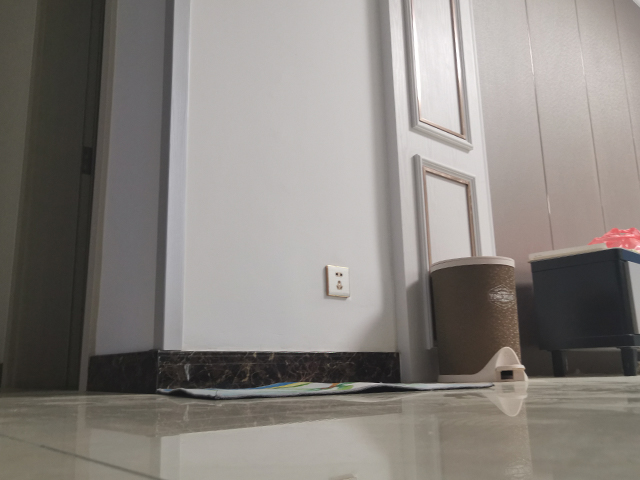cabinet: (523, 245, 640, 377)
carpet: (155, 377, 499, 401)
trashcan: (426, 254, 531, 387)
